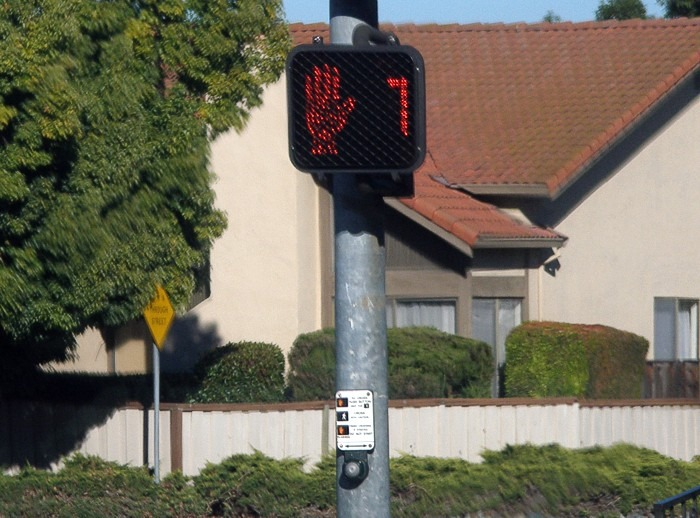pedestrian_stop: (288, 48, 374, 166)
